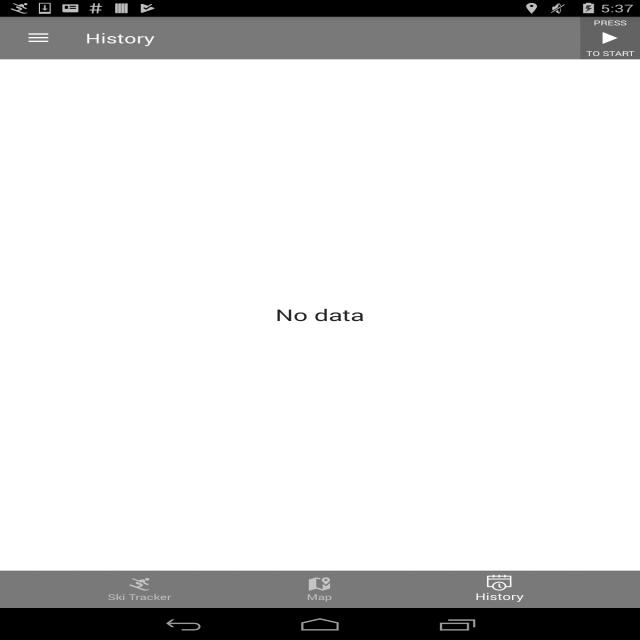ImageButton: (580, 17, 640, 59), (9, 17, 68, 59)
ImageView: (486, 574, 512, 590), (127, 576, 152, 592), (307, 576, 332, 592)
TextView: (275, 304, 364, 326), (572, 22, 631, 54), (85, 29, 155, 47), (475, 590, 524, 603), (108, 592, 171, 602), (580, 18, 640, 27), (580, 49, 640, 58), (307, 592, 332, 602)
